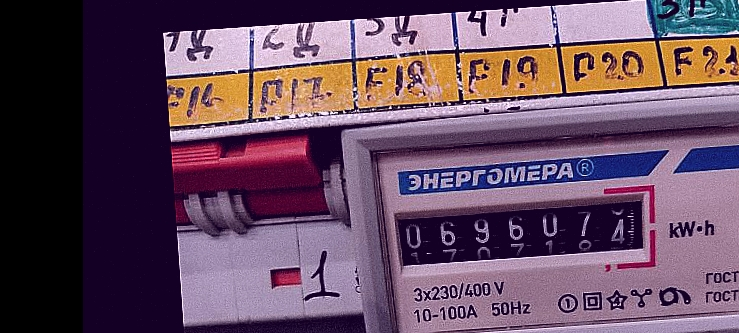0: (403, 219, 424, 249), (539, 209, 560, 237)
4: (608, 216, 628, 245)
6: (506, 211, 526, 240), (437, 218, 457, 246)
7: (574, 206, 595, 238)
9: (471, 216, 491, 245)
screen: (381, 180, 665, 286)
